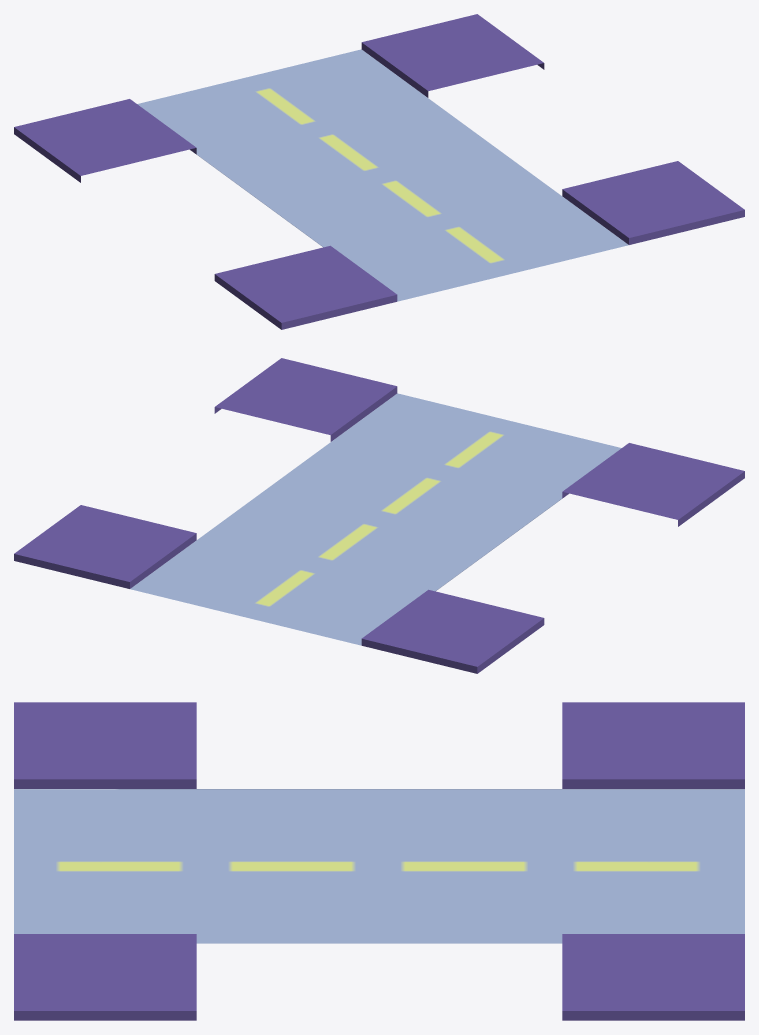
File: road3.fbx
3 renders of one model, top to bottom at view 1: azimuth 30°, elevation 25°; view 2: azimuth 150°, elevation 25°; view 3: azimuth 270°, elevation 25°, orthographic. The views are drawn at different scales.
Visible parts, largest first — view 1: Plane.004; view 2: Plane.004; view 3: Plane.004.
Boxes of the visible parts, <box> form: Plane.004: <box>14,14,744,329</box>; Plane.004: <box>14,358,744,673</box>; Plane.004: <box>14,702,744,1020</box>.
Bounding box in the file's own units: 4 × 0.0582 × 4.
Materials: 1 (1 with a texture image).
